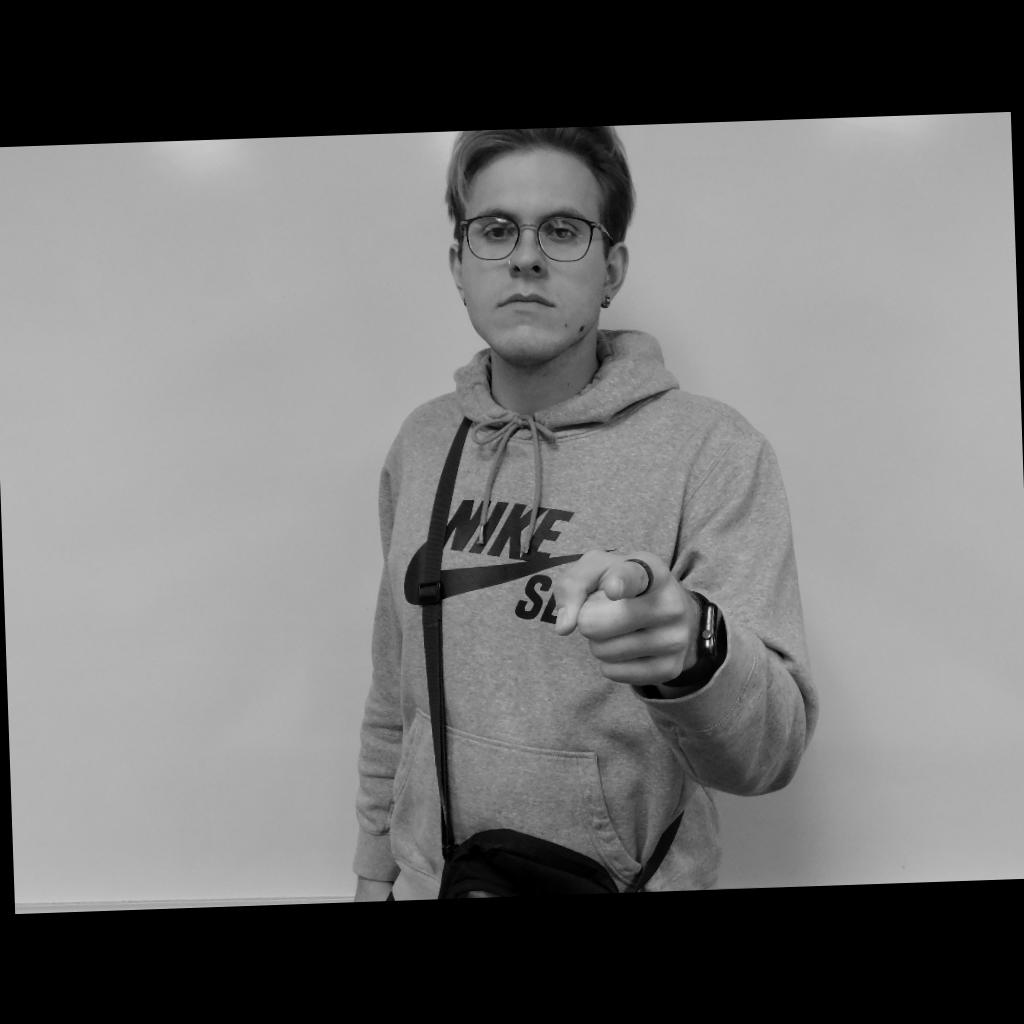you: (551, 544, 696, 688)
